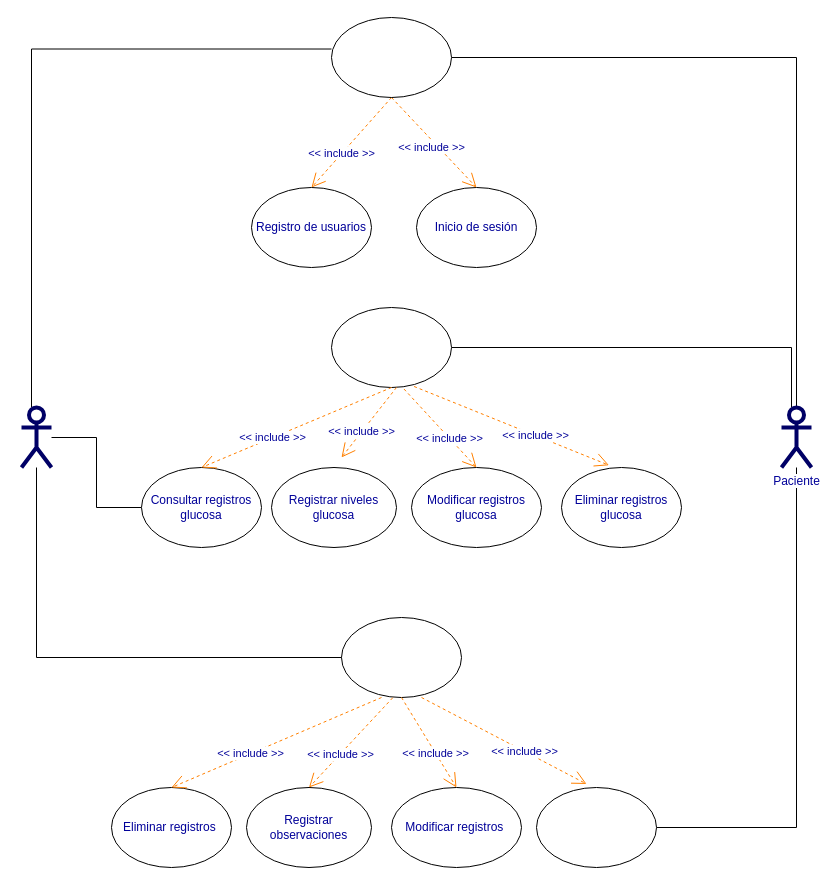
The diagram is 837 pixels wide and 885 high, and some of its shapes have lost their labels. The shapes that lost their labels are listed below. From the top down, each one's centre as x and y in pixels, then its label:
the point at 391,57: Login
the point at 391,347: Administrar glucosa
the point at 36,437: Médico
the point at 401,657: Administrar diagnósticos
the point at 596,827: Consultar observaciones
